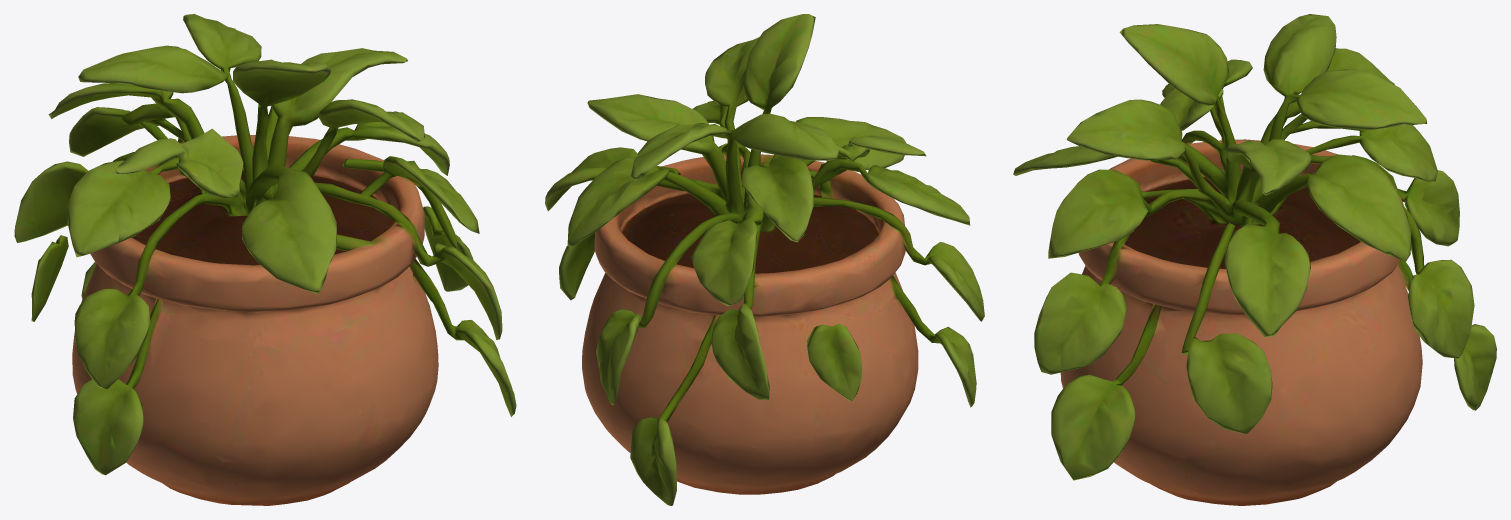
The model's file is plant.glb.
3 views of the same model, side by side, from view 1: azimuth 30°, elevation 25°; view 2: azimuth 150°, elevation 25°; view 3: azimuth 270°, elevation 25° (orthographic). The views are drawn at different scales.
Parts seen in each view (by area): view 1: tripo_node_68144413-b734-4690-8d46-c37253a49bcd; view 2: tripo_node_68144413-b734-4690-8d46-c37253a49bcd; view 3: tripo_node_68144413-b734-4690-8d46-c37253a49bcd.
Part boxes in pixels (x1,y1,x2,y2): tripo_node_68144413-b734-4690-8d46-c37253a49bcd: (14, 14, 516, 505); tripo_node_68144413-b734-4690-8d46-c37253a49bcd: (545, 14, 984, 505); tripo_node_68144413-b734-4690-8d46-c37253a49bcd: (1013, 14, 1496, 505).
Size of the model in its own units: 0.9835 by 0.988 by 1.
1 material, 1 textured.
